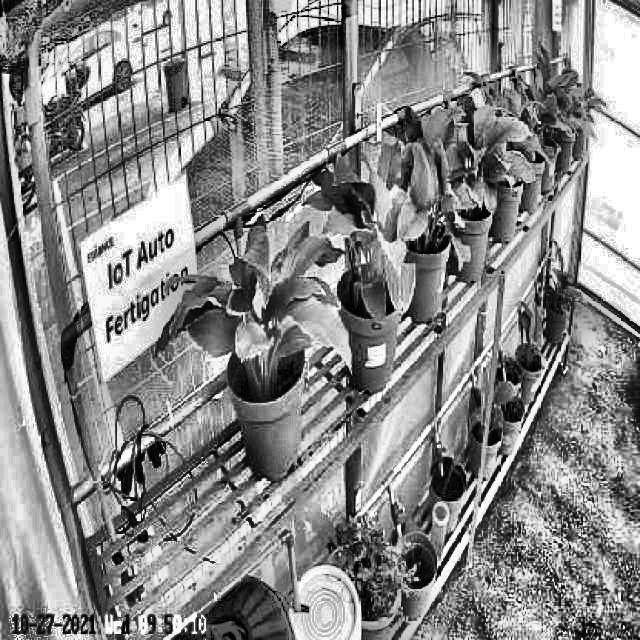plants: (157, 210, 354, 384), (315, 172, 417, 326), (377, 129, 471, 291), (429, 86, 534, 206)
